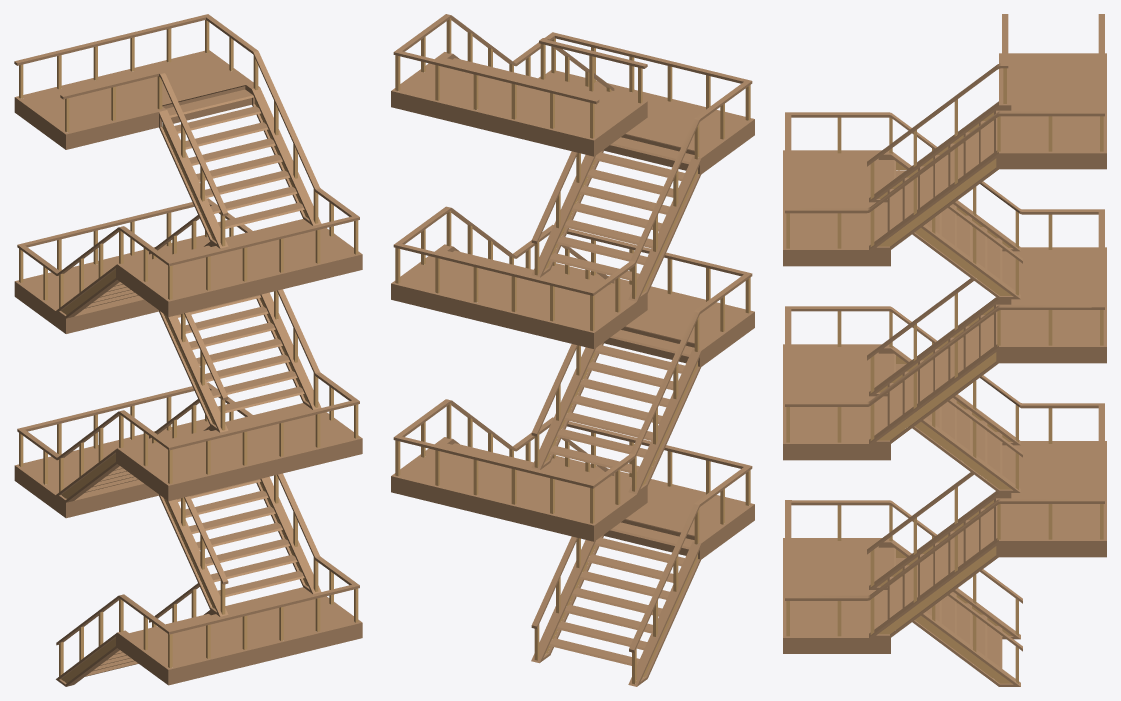
The model's file is stairs-com.glb.
3 renders of one model, left to right at view 1: azimuth 30°, elevation 25°; view 2: azimuth 150°, elevation 25°; view 3: azimuth 270°, elevation 25°, orthographic. The views are drawn at different scales.
Parts seen in each view (by area): view 1: Material2 (×2); view 2: Material2 (×2); view 3: Material2 (×2).
Part boxes in pixels (bbox=[...]): Material2 (×2): bbox=[14, 14, 362, 686]; Material2 (×2): bbox=[391, 14, 754, 686]; Material2 (×2): bbox=[783, 14, 1106, 686].
Size of the model in its own units: 3.62 by 10.43 by 4.93.
